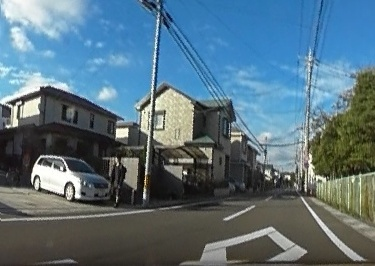person: (109, 154, 127, 201)
